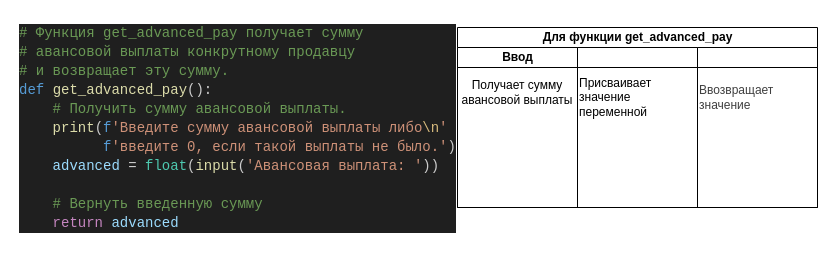
This 835x254 diagram has some shape labels left out. The box of each missing label's shape, as (x1, y1, x2, y2) in pixels:
Вывод: (696, 46, 818, 208)
Обработка: (576, 46, 698, 208)
